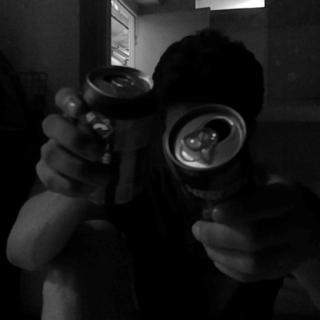alumunium_can: (80, 63, 155, 207), (168, 103, 255, 205)
